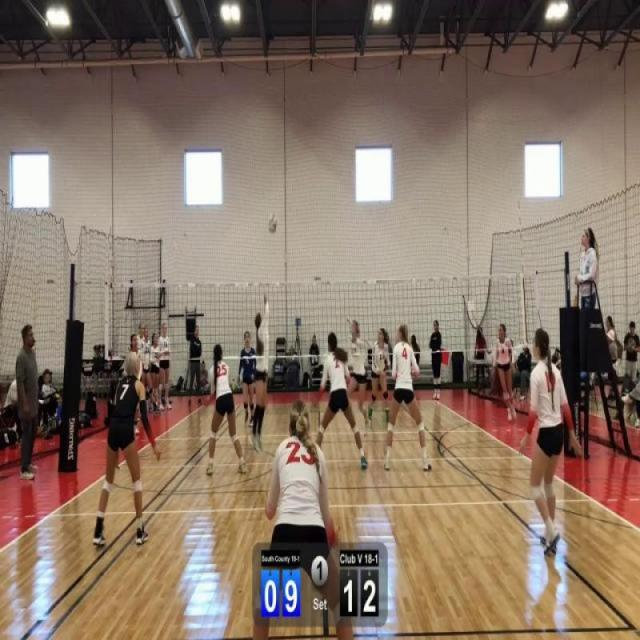volleyball: (266, 212, 278, 235)
